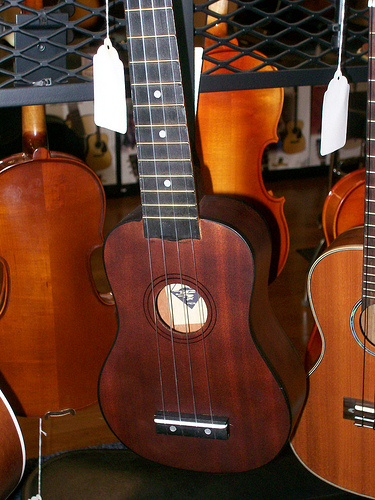guitar: (94, 1, 308, 471), (290, 1, 375, 496)
